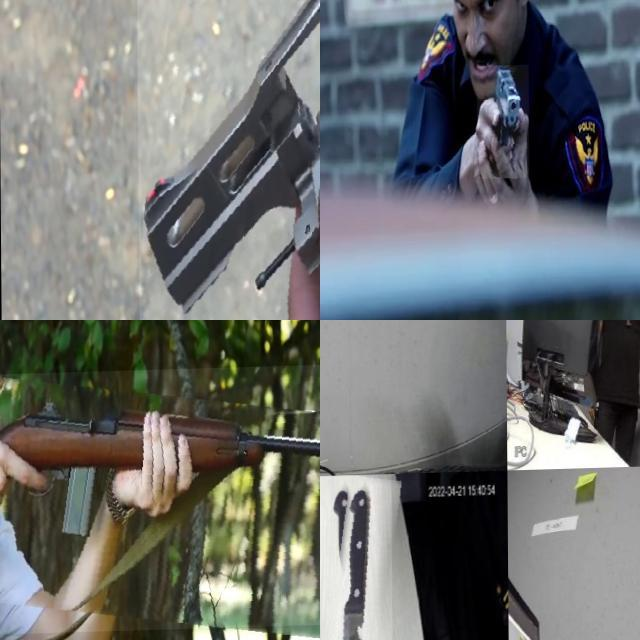-: (320, 476, 392, 640), (325, 320, 468, 380)
gun-knife-thesis - v11 Yolov5 augmented: (0, 366, 320, 639), (136, 0, 320, 320), (476, 66, 528, 180)
